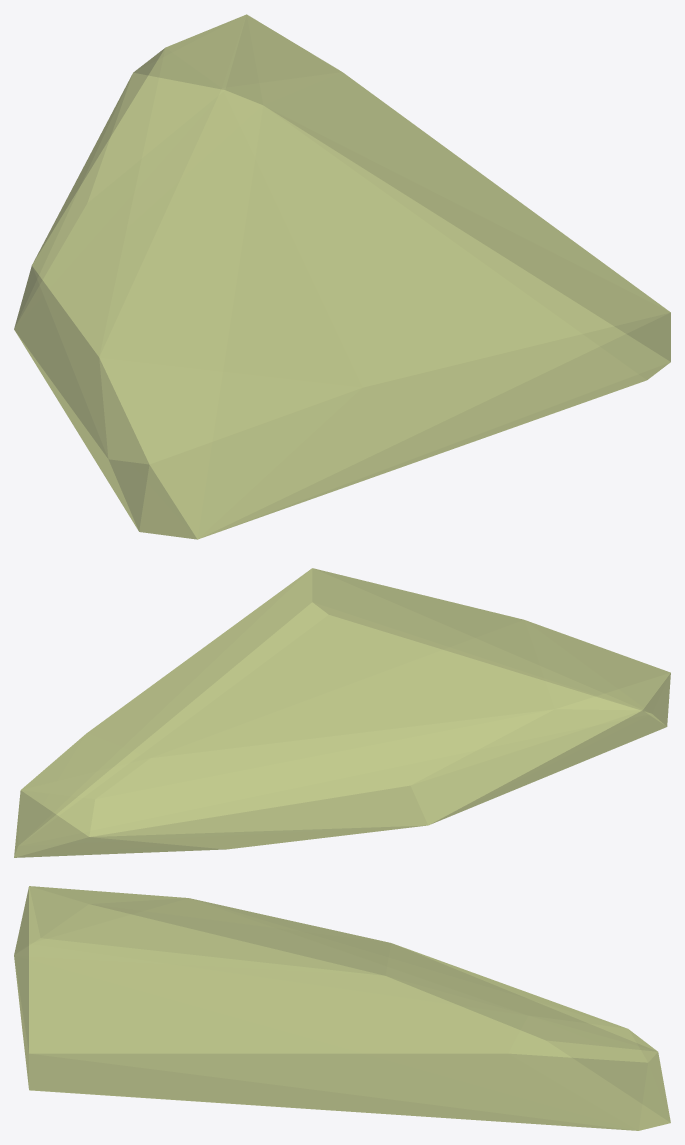
3 views of the same model, one above another, from view 1: azimuth 30°, elevation 25°; view 2: azimuth 150°, elevation 25°; view 3: azimuth 270°, elevation 25° (orthographic). The views are drawn at different scales.
Parts seen in each view (by area): view 1: Shape_IndexedFaceSet.002_Shape_IndexedFaceSet.3496; view 2: Shape_IndexedFaceSet.002_Shape_IndexedFaceSet.3496; view 3: Shape_IndexedFaceSet.002_Shape_IndexedFaceSet.3496.
Boxes of the visible parts, x1=… form: Shape_IndexedFaceSet.002_Shape_IndexedFaceSet.3496: x1=14, y1=14, x2=670, y2=539; Shape_IndexedFaceSet.002_Shape_IndexedFaceSet.3496: x1=14, y1=568, x2=670, y2=857; Shape_IndexedFaceSet.002_Shape_IndexedFaceSet.3496: x1=14, y1=886, x2=670, y2=1130.
Bounding box in the file's own units: 0.1728 × 0.0314 × 0.2524.
